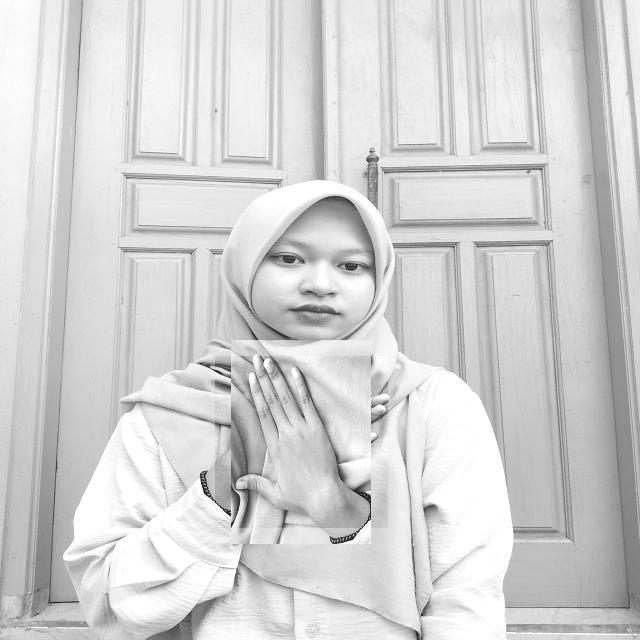tolong: (215, 356, 388, 528)
